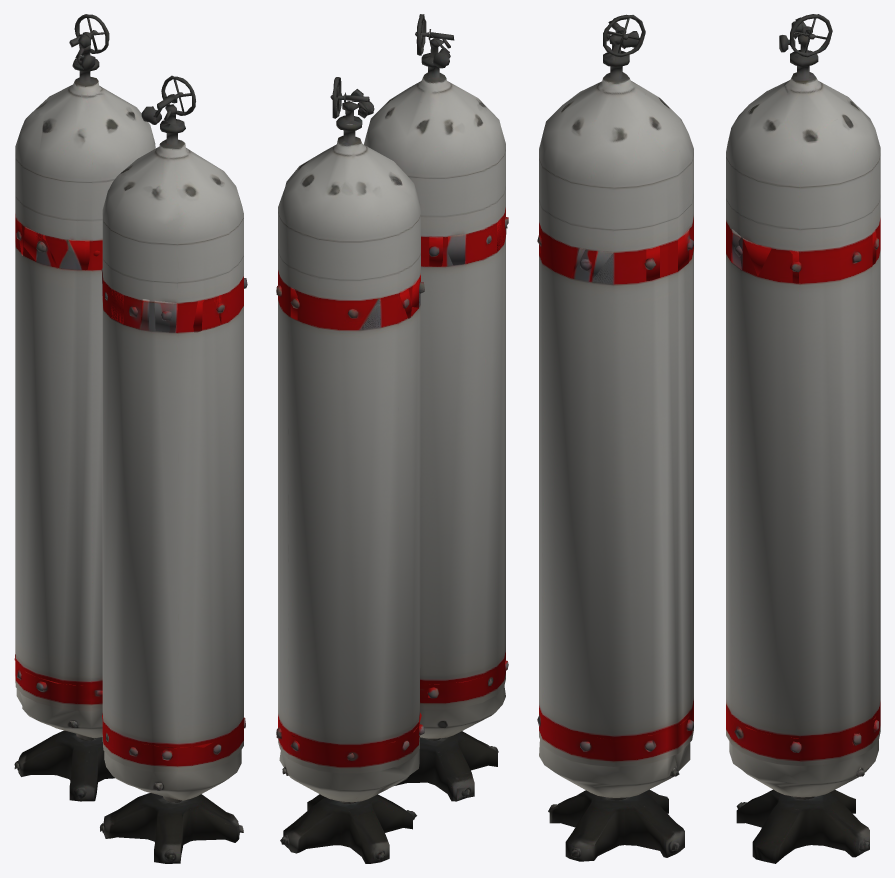
Rendered from oxygen_tanks_pair.glb.
3 views of the same model, side by side, from view 1: azimuth 30°, elevation 25°; view 2: azimuth 150°, elevation 25°; view 3: azimuth 270°, elevation 25° (orthographic). The views are drawn at different scales.
Visible parts, largest first — view 1: tripo_node_8d2cf26e-c238-4d7d-a1b1-2a8bc8e29a34; view 2: tripo_node_8d2cf26e-c238-4d7d-a1b1-2a8bc8e29a34; view 3: tripo_node_8d2cf26e-c238-4d7d-a1b1-2a8bc8e29a34.
Boxes of the visible parts, x1,y1,x2,y2 form: tripo_node_8d2cf26e-c238-4d7d-a1b1-2a8bc8e29a34: (14, 14, 247, 863); tripo_node_8d2cf26e-c238-4d7d-a1b1-2a8bc8e29a34: (276, 14, 508, 863); tripo_node_8d2cf26e-c238-4d7d-a1b1-2a8bc8e29a34: (537, 14, 880, 863).
Size of the model in its own units: 0.2137 by 1.2 by 0.4532.
1 material, 1 textured.
